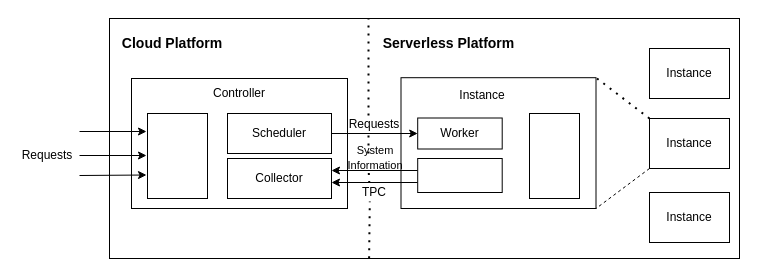
This 757x277 diagram has some shape labels left out. The shapes that lost their labels are listed below. From the top down, each one's box as (x1, y1, x2, y2) in pixels, then its label:
(146, 112, 208, 198): Interface
(417, 158, 502, 192): Reporter
(528, 112, 580, 198): Monitor
